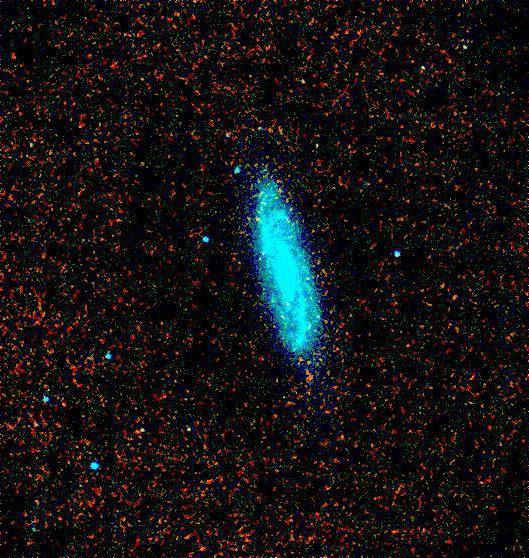star: (284, 349, 314, 379)
